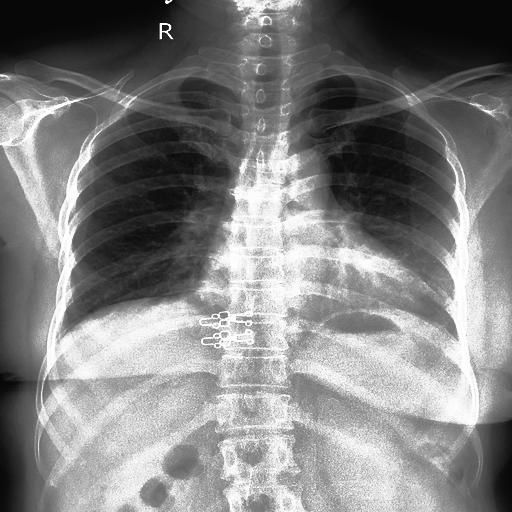Consolidation: (269, 148, 333, 195)
Nodule/Mass: (191, 255, 431, 320)
